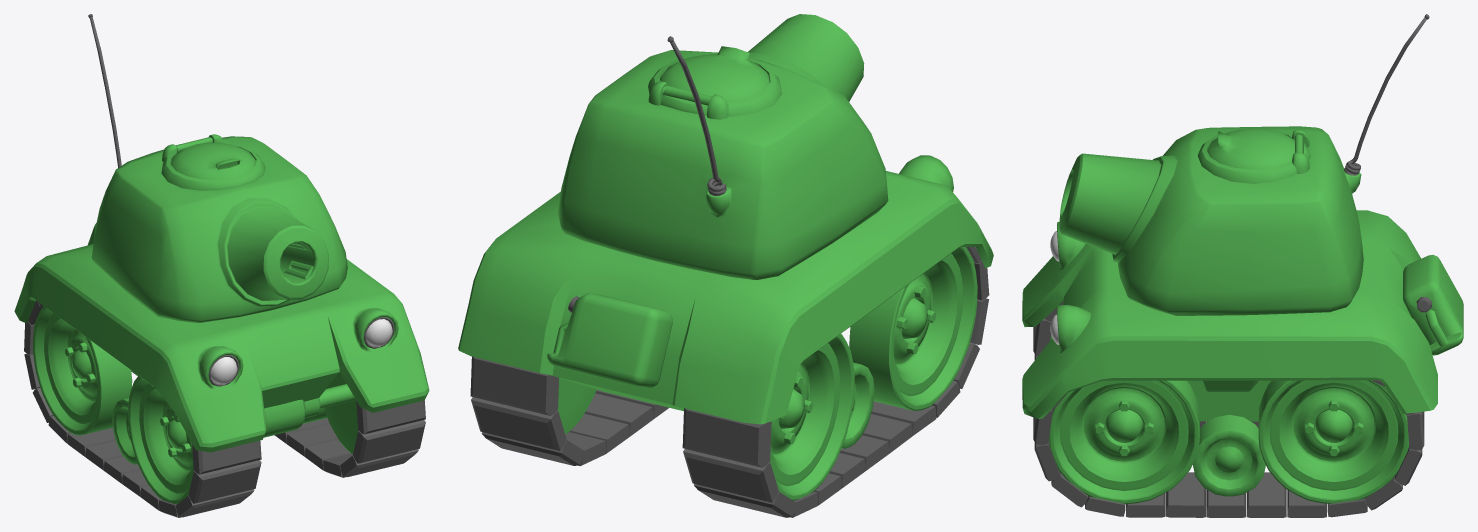
Rendered from Tank_Original_Model.glb.
3 renders of one model, left to right at view 1: azimuth 30°, elevation 25°; view 2: azimuth 150°, elevation 25°; view 3: azimuth 270°, elevation 25°, orthographic. The views are drawn at different scales.
Parts seen in each view (by area): view 1: TankChassis, TankTurret, TankTracksRight, TankTracksLeft; view 2: TankChassis, TankTurret, TankTracksRight, TankTracksLeft; view 3: TankChassis, TankTurret, TankTracksLeft, TankTracksRight.
Part boxes in pixels (x1,y1,x2,y2): TankChassis: [14, 223, 429, 464]; TankTurret: [88, 14, 347, 322]; TankTracksRight: [24, 300, 261, 517]; TankTracksLeft: [274, 372, 425, 477]; TankChassis: [458, 155, 993, 448]; TankTurret: [558, 14, 888, 279]; TankTracksRight: [682, 246, 989, 517]; TankTracksLeft: [470, 356, 668, 466]; TankChassis: [1022, 210, 1463, 496]; TankTurret: [1059, 14, 1429, 315]; TankTracksLeft: [1033, 380, 1424, 517]; TankTracksRight: [1033, 302, 1258, 428].
Size of the model in its own units: 1.7 by 2.49 by 2.37.
